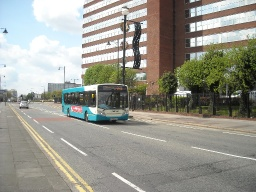bus: (59, 84, 130, 126)
car: (18, 99, 31, 109)
